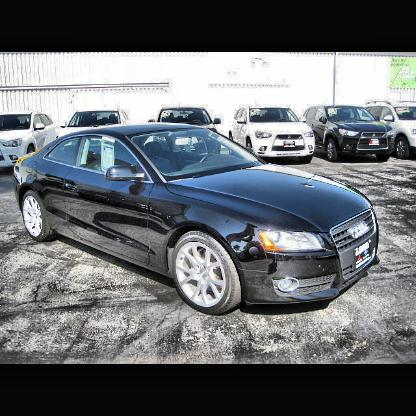Audi A5 Coupe 2012: (14, 124, 381, 319)
